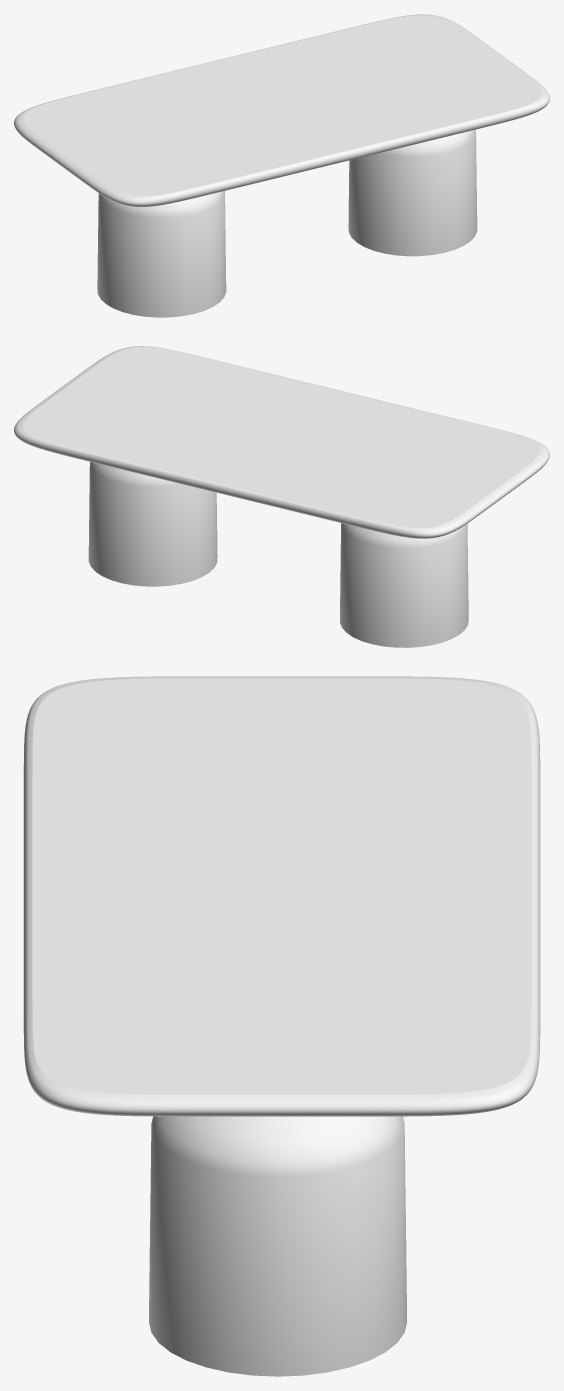
Rendered from purewhite_softrecta_round_tornado.glb.
3 views of the same model, one above another, from view 1: azimuth 30°, elevation 25°; view 2: azimuth 150°, elevation 25°; view 3: azimuth 270°, elevation 25° (orthographic). The views are drawn at different scales.
Parts seen in each view (by area): view 1: round_softrecta, tornado; view 2: round_softrecta, tornado; view 3: round_softrecta, tornado.
Boxes of the visible parts, x1=… form: round_softrecta: x1=14, y1=14, x2=549, y2=206; tornado: x1=97, y1=129, x2=477, y2=317; round_softrecta: x1=14, y1=346, x2=549, y2=538; tornado: x1=88, y1=462, x2=468, y2=647; round_softrecta: x1=23, y1=676, x2=540, y2=1116; tornado: x1=149, y1=1116, x2=407, y2=1376.
Size of the model in its own units: 7.5 by 2.5 by 3.8.
1 material, 1 textured.
